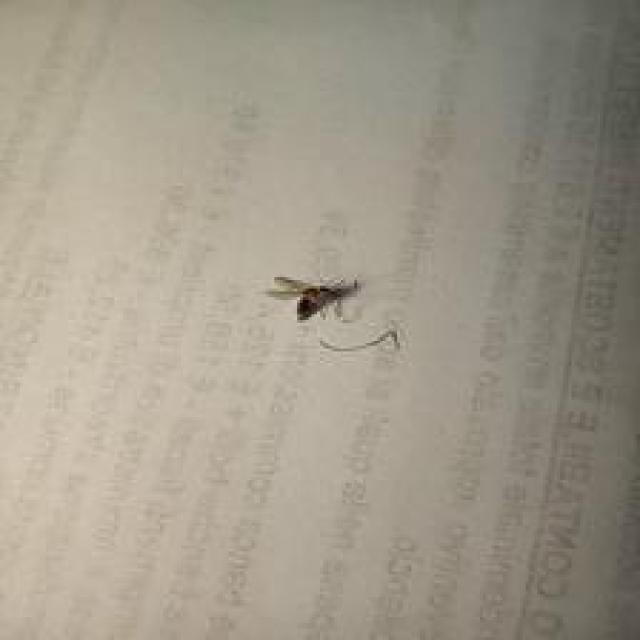Culex: (264, 274, 362, 323)
